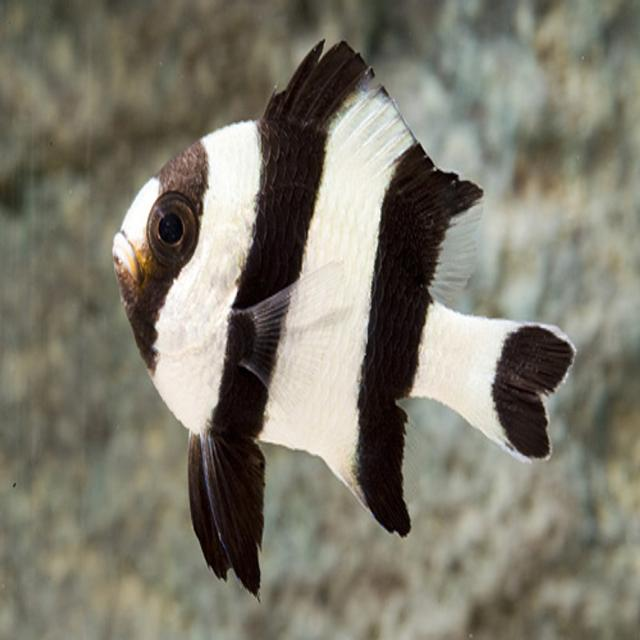ThreeStripedDamselfish: (110, 42, 576, 596)
